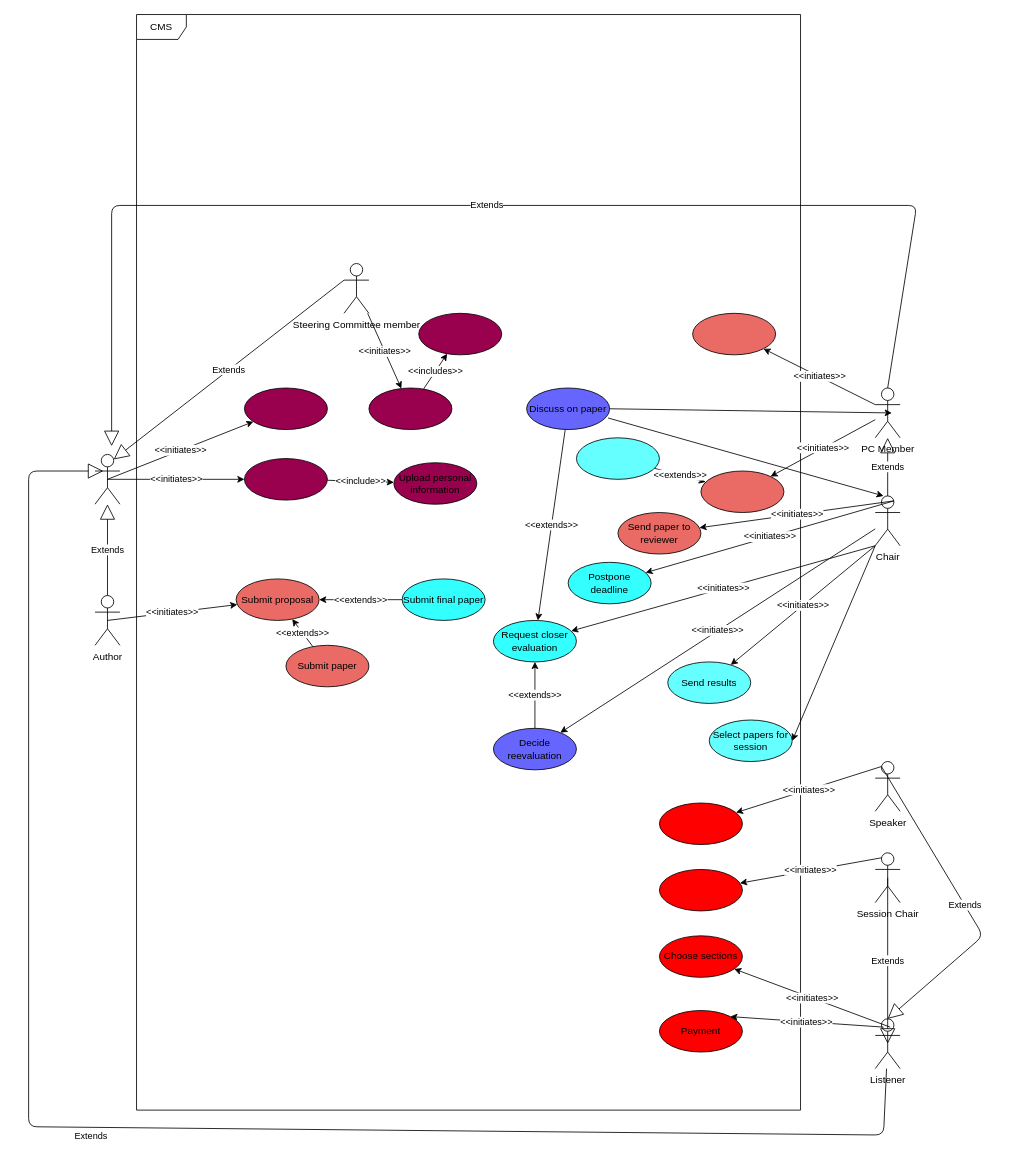
This 1013x1164 diagram has some shape labels left out. Each missing label, with the centre of its shape:
Attach recommendations: pixel 617 458
Bid proposal: pixel 734 333
Create account: pixel 285 479
Invite chairpersons: pixel 460 333
Login: pixel 285 408
Modify list of speakers: pixel 700 890
Review paper: pixel 742 491
Schedule conference: pixel 410 408
Upload presentation: pixel 700 823
User: pixel 107 479
